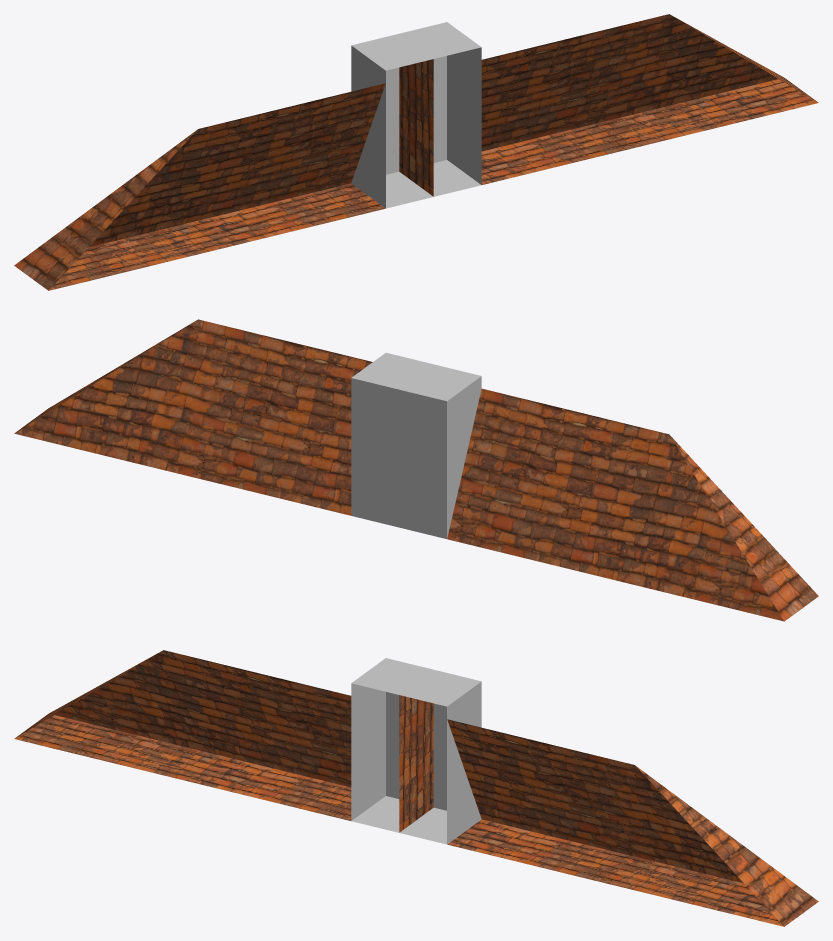
Rendered from rg_entrances_design_roof.fbx.
The picture shows the model from 3 angles, top to bottom: view 1: azimuth 30°, elevation 25°; view 2: azimuth 150°, elevation 25°; view 3: azimuth 330°, elevation 25°; orthographic projection.
Parts seen in each view (by area): view 1: rg_entrances_design_roof; view 2: rg_entrances_design_roof; view 3: rg_entrances_design_roof.
Part boxes in pixels (x1,y1,x2,y2): rg_entrances_design_roof: [14, 14, 818, 290]; rg_entrances_design_roof: [14, 319, 818, 621]; rg_entrances_design_roof: [14, 650, 818, 926].
Bounding box in the file's own units: 643 × 110 × 50.
